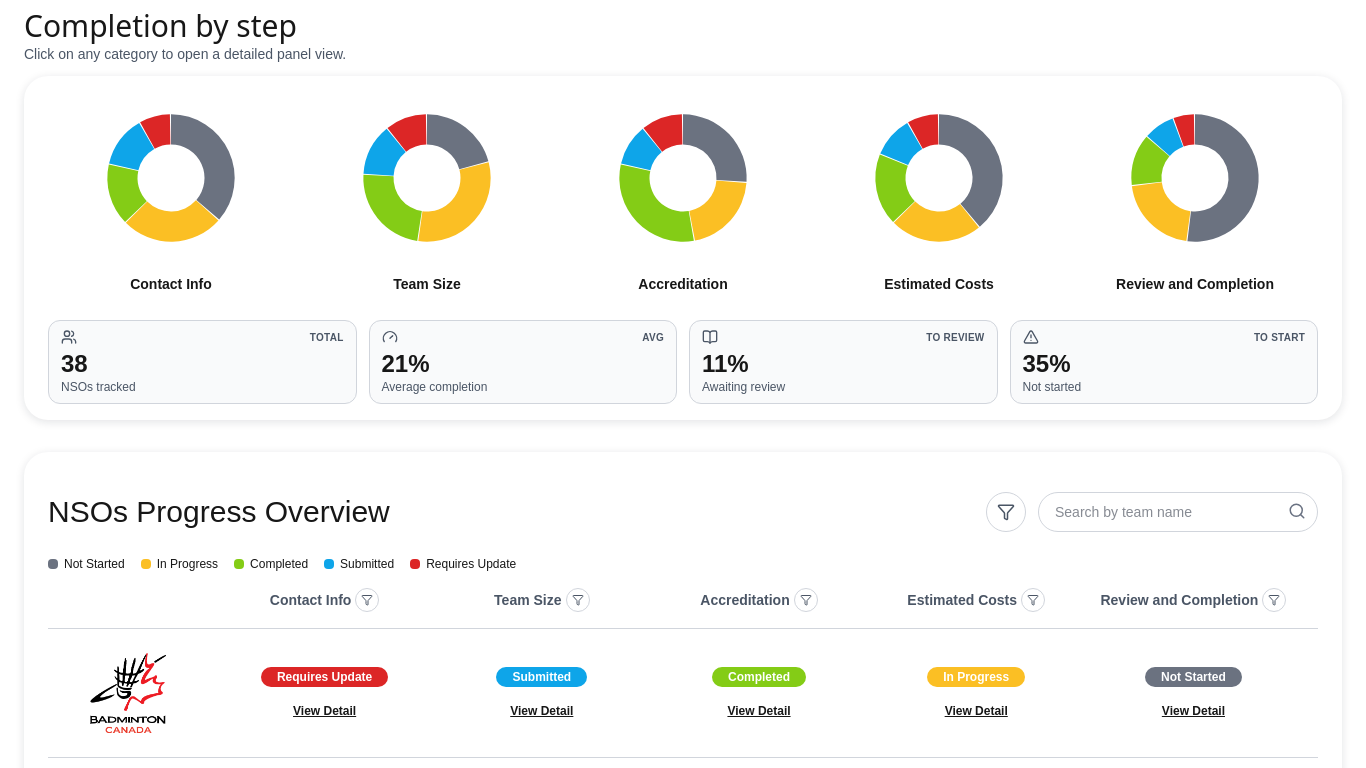
Dashboard page › shows a message when no teams match
The width and height of the screenshot is (1366, 768).
In the field with placeholder "Search by team name": (1178, 512) [1038, 492, 1318, 532], type "zzz-no-match"
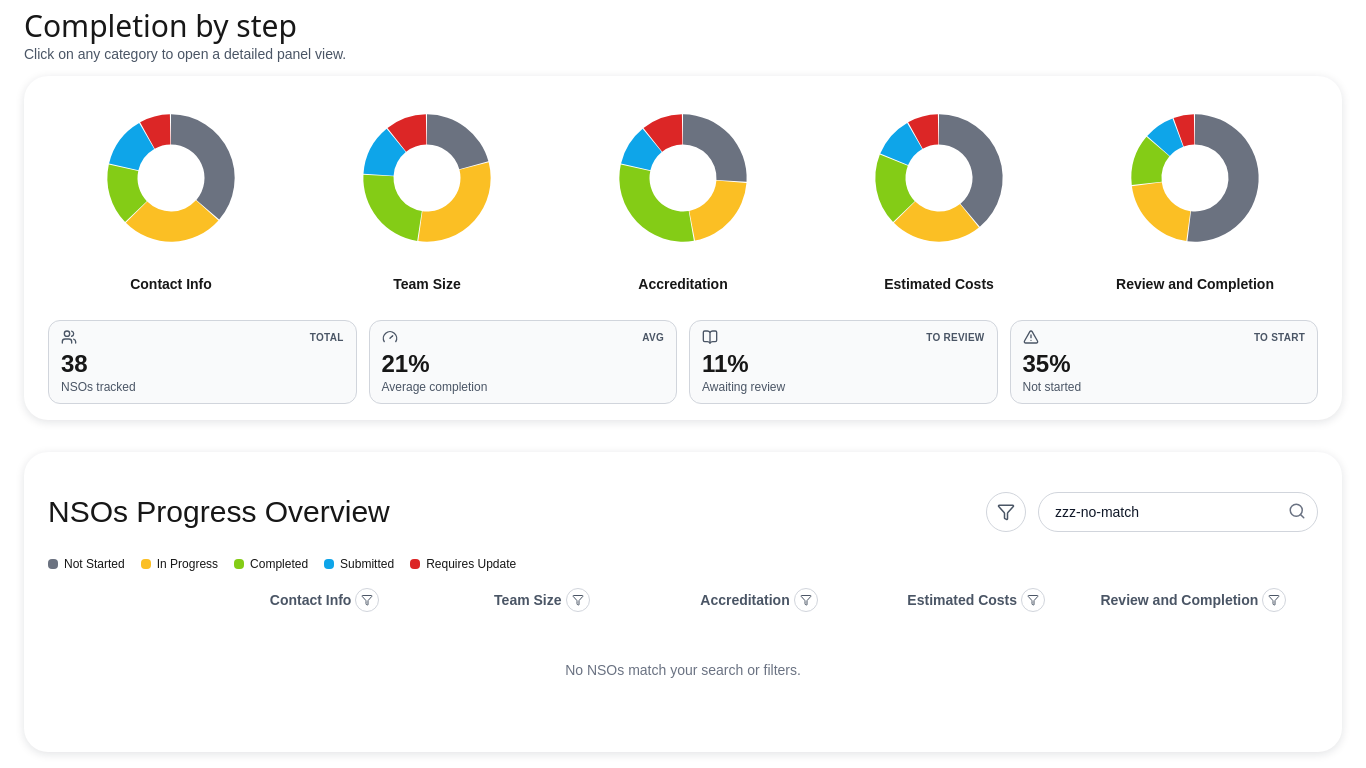
Check: the text "No NSOs match your search or filters." is shown, box [565, 662, 801, 678]
